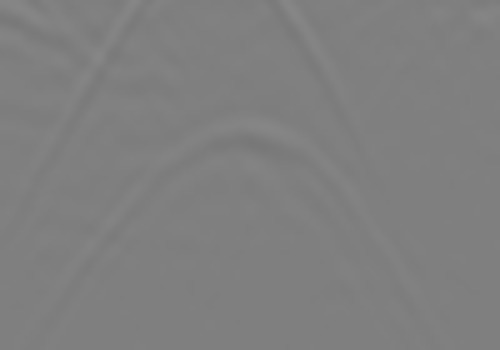hyperbola: (73, 115, 424, 323)
